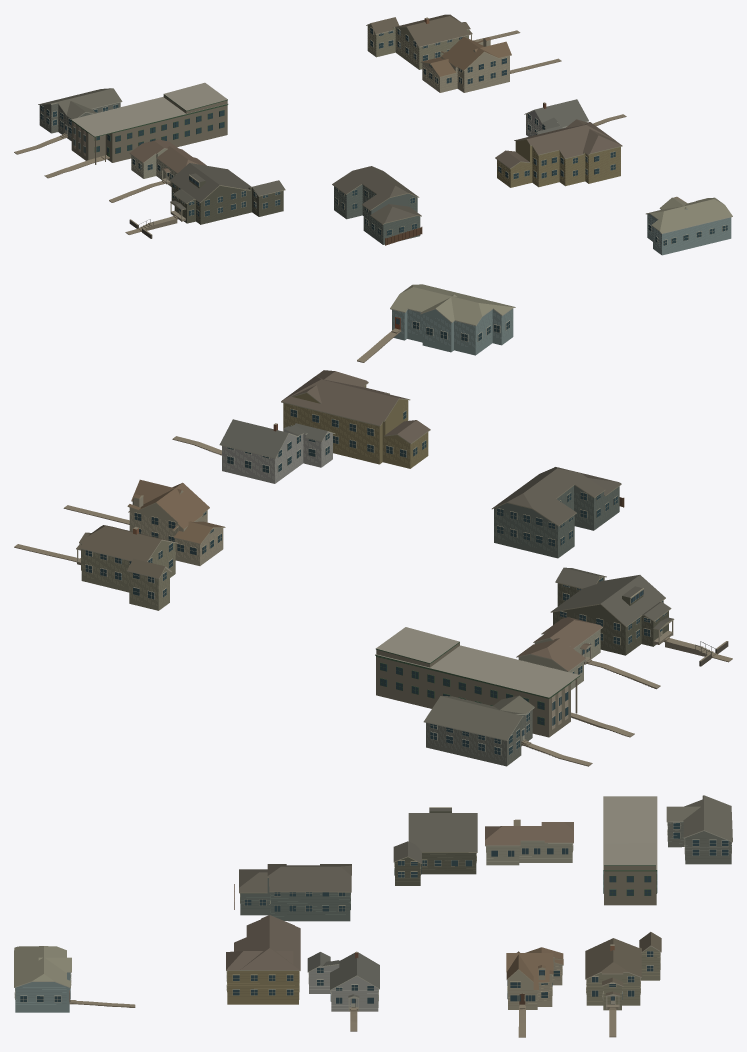
The model's file is site.glb.
3 renders of one model, top to bottom at view 1: azimuth 30°, elevation 25°; view 2: azimuth 150°, elevation 25°; view 3: azimuth 270°, elevation 25°, orthographic. The views are drawn at different scales.
Visible parts, largest first — view 1: roof-84ccdaf5, roof-b0798c1b, roof-7e72b4ca, roof-ae77fb78, roof-da8142c0, potter-1938, roof-5be21a96, harris-1911, harris-1941, harris-potter-approaches, potter-1976; view 2: roof-84ccdaf5, roof-b0798c1b, roof-ae77fb78, roof-7e72b4ca, roof-da8142c0, roof-5be21a96, harris-1911, potter-1976, potter-1938, harris-potter-approaches, harris-1941; view 3: roof-ae77fb78, roof-84ccdaf5, roof-b0798c1b, roof-7e72b4ca, roof-5be21a96, harris-1911, roof-da8142c0, potter-1976, harris-1941, potter-1938, harris-potter-approaches.
Part boxes in pixels (<box>): roof-84ccdaf5: <box>71,82,228,164</box>; roof-b0798c1b: <box>495,119,622,187</box>; roof-7e72b4ca: <box>170,163,285,224</box>; roof-ae77fb78: <box>332,166,422,245</box>; roof-da8142c0: <box>646,197,732,255</box>; potter-1938: <box>420,36,511,92</box>; roof-5be21a96: <box>366,14,472,69</box>; harris-1911: <box>38,88,122,140</box>; harris-1941: <box>129,139,206,186</box>; harris-potter-approaches: <box>14,30,686,238</box>; potter-1976: <box>524,99,588,136</box>; roof-84ccdaf5: <box>375,627,580,737</box>; roof-b0798c1b: <box>281,370,430,468</box>; roof-ae77fb78: <box>492,467,624,558</box>; roof-7e72b4ca: <box>550,567,674,655</box>; roof-da8142c0: <box>390,284,515,355</box>; roof-5be21a96: <box>76,525,177,610</box>; harris-1911: <box>423,695,534,766</box>; potter-1976: <box>219,419,335,483</box>; potter-1938: <box>127,479,225,565</box>; harris-potter-approaches: <box>14,328,732,766</box>; harris-1941: <box>516,617,602,689</box>; roof-ae77fb78: <box>234,864,351,921</box>; roof-84ccdaf5: <box>603,796,657,905</box>; roof-b0798c1b: <box>226,915,300,1004</box>; roof-7e72b4ca: <box>393,807,477,885</box>; roof-5be21a96: <box>585,932,661,1010</box>; harris-1911: <box>666,795,732,864</box>; roof-da8142c0: <box>14,946,71,1012</box>; potter-1976: <box>307,951,379,1011</box>; harris-1941: <box>485,822,573,865</box>; potter-1938: <box>506,947,563,1009</box>; harris-potter-approaches: <box>69,819,616,1037</box>.
Size of the model in its own units: 117 by 16.12 by 135.
